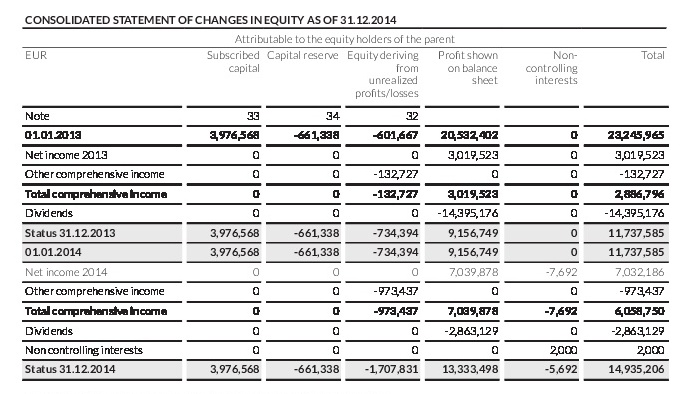table: (0, 0, 697, 394)
